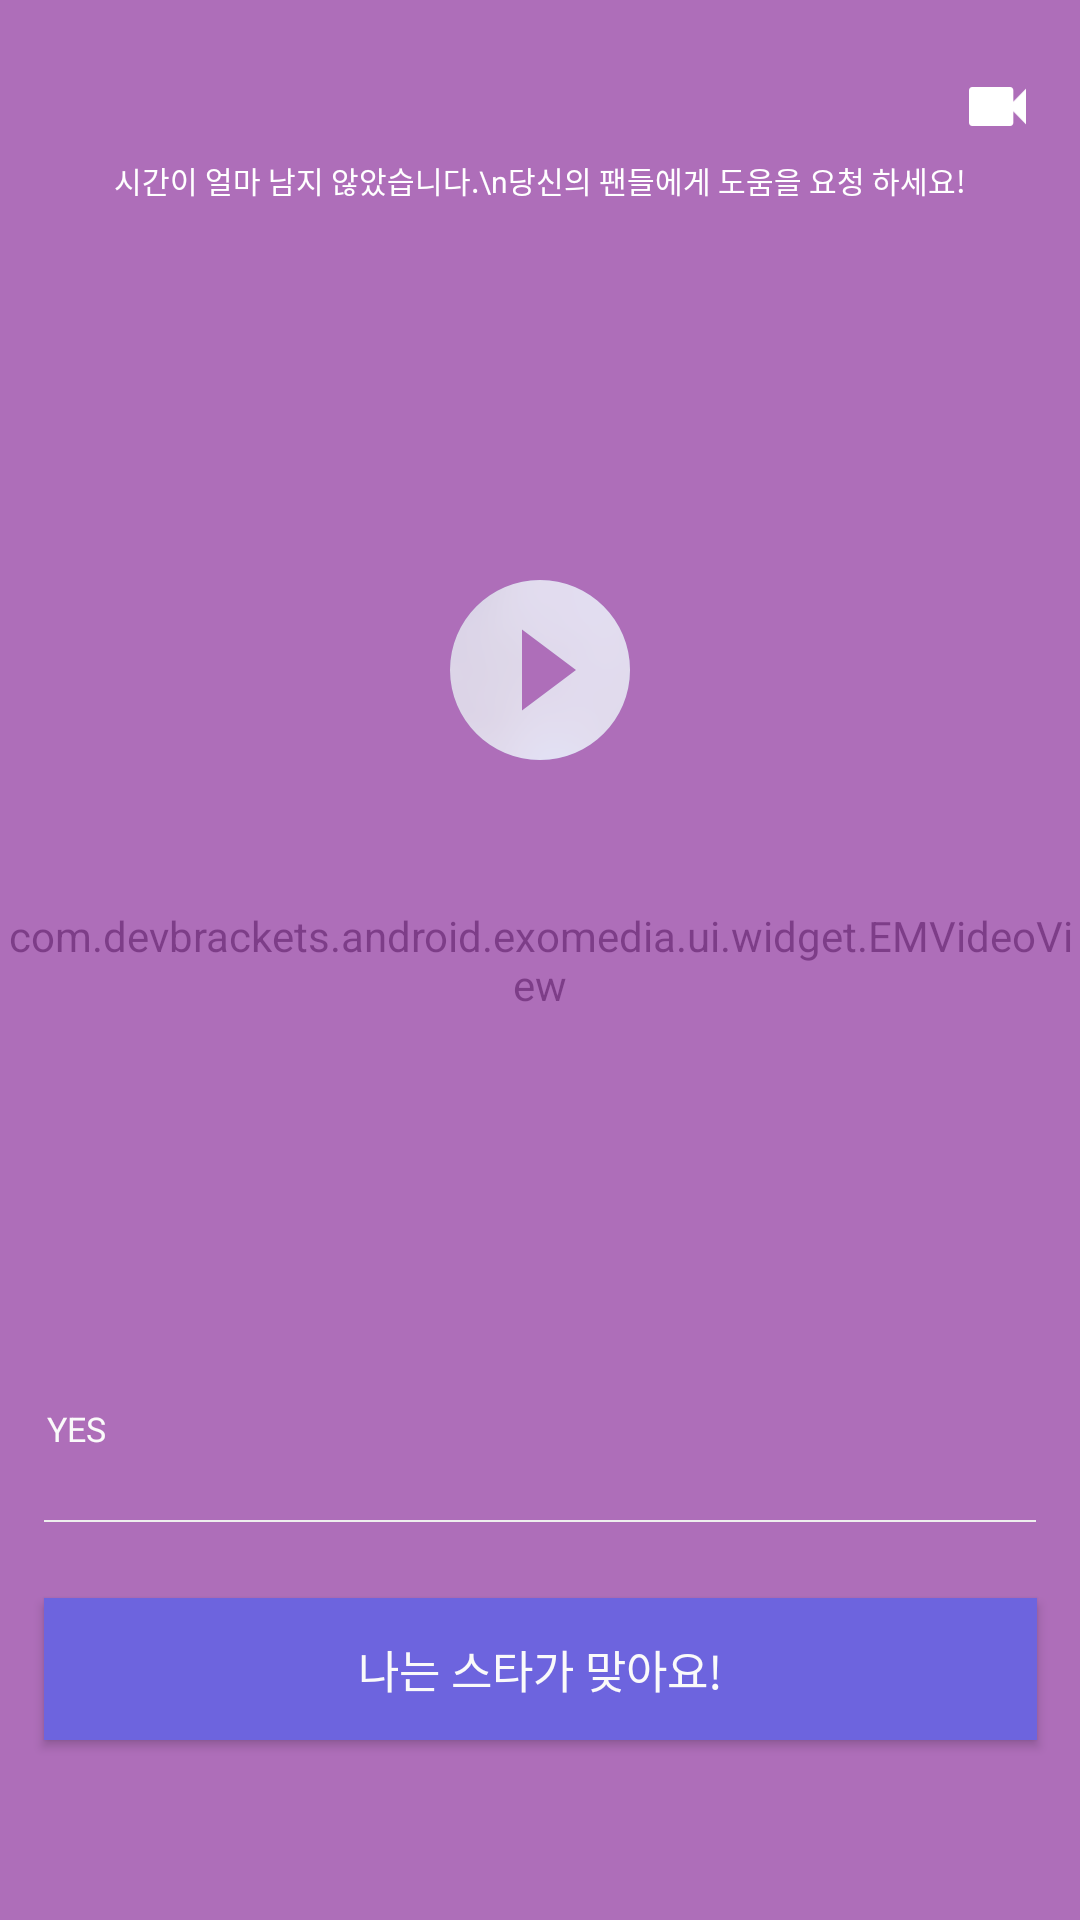

Icon bounding boxes for this 1080 × 1920 phone screenshot, format (x1, y1, x2, y2):
mov: (969, 87, 1026, 126)
